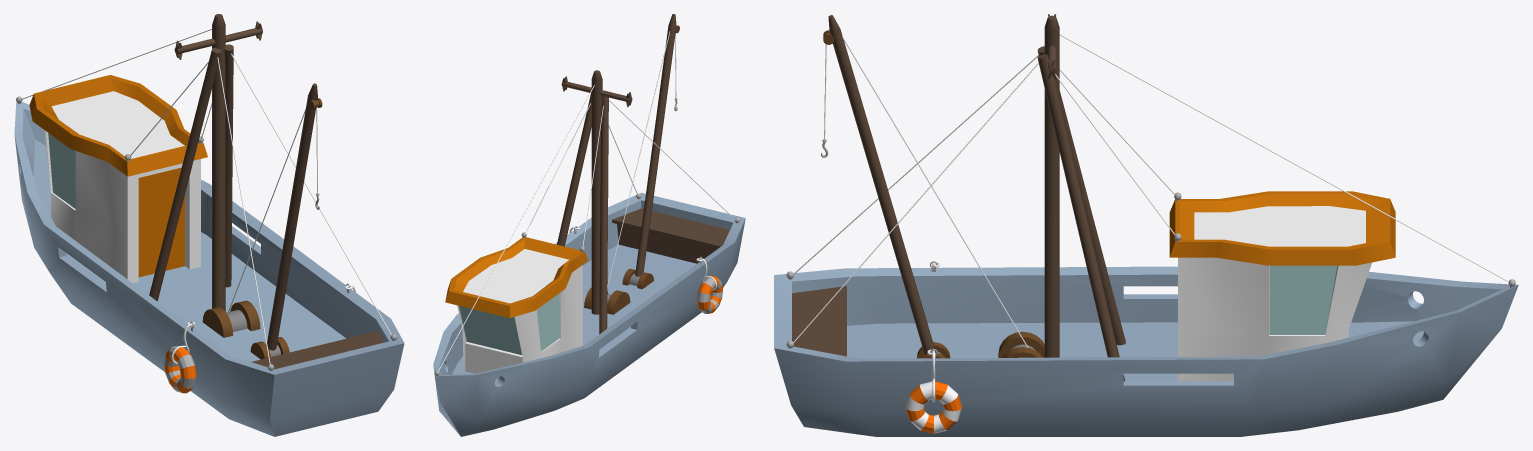
Rendered from boat.glb.
3 renders of one model, left to right at view 1: azimuth 30°, elevation 25°; view 2: azimuth 150°, elevation 25°; view 3: azimuth 270°, elevation 25°, orthographic. The views are drawn at different scales.
Visible parts, largest first — view 1: boat; view 2: boat; view 3: boat.
Part boxes in pixels (box(x1,y1,x2,y2)): boat: box(14, 14, 404, 436); boat: box(433, 14, 745, 436); boat: box(774, 14, 1518, 436).
Size of the model in its own units: 10.71 by 17.34 by 30.47.
